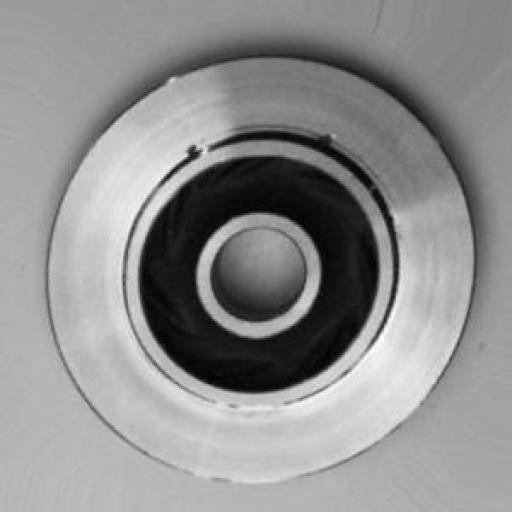defect: (157, 106, 372, 174)
